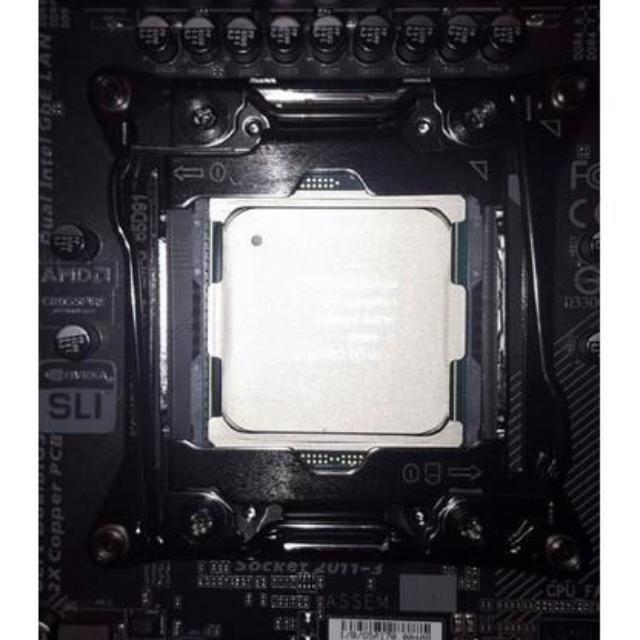CPU: (214, 203, 458, 448)
